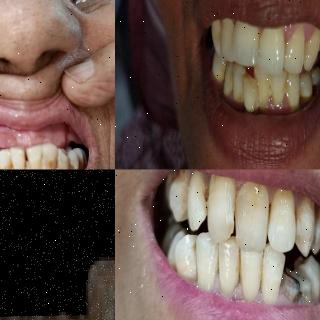Gum Swelling: (0, 129, 18, 150), (266, 97, 290, 111)
maligned: (202, 170, 238, 247), (168, 170, 191, 228), (174, 231, 197, 287), (242, 74, 260, 119)
plaque: (277, 74, 291, 100), (263, 80, 277, 104), (23, 156, 35, 170), (53, 161, 67, 169), (40, 159, 50, 169)
stains: (266, 192, 290, 242), (293, 204, 309, 253), (246, 183, 266, 216), (232, 246, 245, 296), (199, 177, 213, 223), (296, 78, 310, 112), (216, 57, 228, 84), (225, 66, 234, 100), (15, 153, 27, 170), (46, 154, 56, 170), (29, 158, 41, 170), (68, 156, 78, 170), (76, 156, 85, 170), (1, 160, 13, 170)
